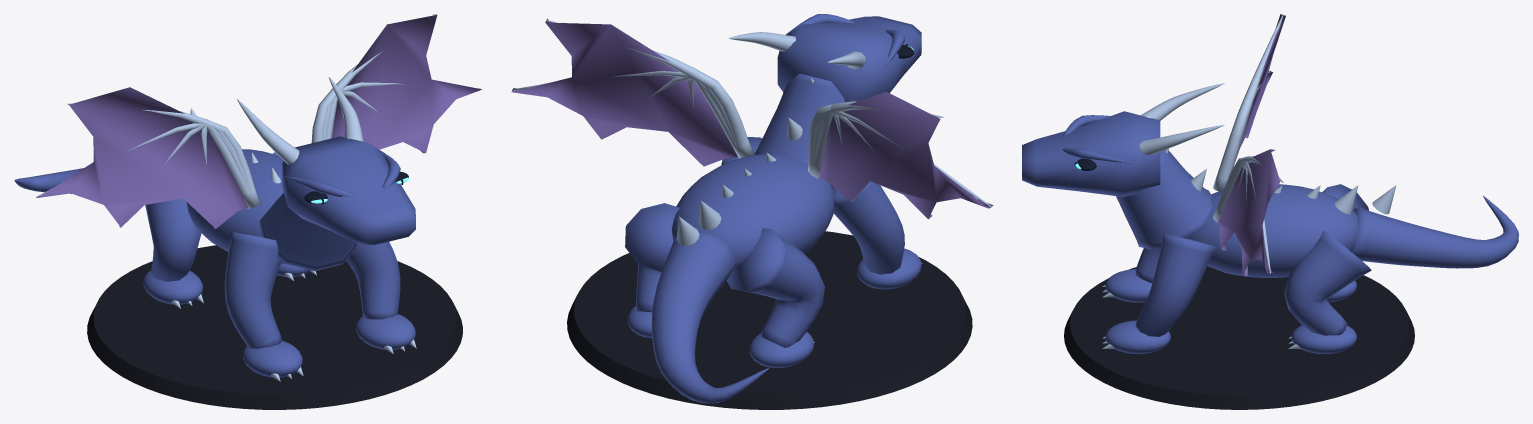
Rendered from DragaoTransplanar3D.glb.
3 views of the same model, side by side, from view 1: azimuth 30°, elevation 25°; view 2: azimuth 150°, elevation 25°; view 3: azimuth 270°, elevation 25° (orthographic). The views are drawn at different scales.
Visible parts, largest first — view 1: BaseMiniatura, MembranaEspessa, MembranaEspessa2, CabecaEsculpida, MembroDianteiraEsquerda, Pescoco, MembroTraseiraEsquerda, TroncoHorizontal, MembroDianteiraDireita, PataDianteiraDireita, PataDianteiraEsquerda, PataTraseiraEsquerda (+9 smaller); view 2: BaseMiniatura, MembranaEspessa2, TroncoHorizontal, MembranaEspessa, CaudaVolumetrica, CabecaEsculpida, MembroTraseiraEsquerda, MembroDianteiraEsquerda, Pescoco, MembroTraseiraDireita, Nervura22, PataTraseiraEsquerda (+10 smaller); view 3: BaseMiniatura, CabecaEsculpida, TroncoHorizontal, CaudaVolumetrica, Pescoco, MembroTraseiraDireita, MembroDianteiraDireita, MembranaEspessa2, PataDianteiraDireita, PataTraseiraDireita, Nervura2, PataDianteiraEsquerda (+6 smaller).
Boxes of the visible parts, bbox=[...] form: BaseMiniatura: bbox=[87, 245, 462, 409]; MembranaEspessa: bbox=[37, 87, 248, 228]; MembranaEspessa2: bbox=[332, 14, 482, 153]; CabecaEsculpida: bbox=[282, 136, 415, 245]; MembroDianteiraEsquerda: bbox=[224, 231, 282, 348]; Pescoco: bbox=[259, 193, 356, 271]; MembroTraseiraEsquerda: bbox=[145, 198, 201, 281]; TroncoHorizontal: bbox=[186, 149, 284, 264]; MembroDianteiraDireita: bbox=[346, 241, 400, 319]; PataDianteiraDireita: bbox=[356, 314, 415, 349]; PataDianteiraEsquerda: bbox=[243, 340, 302, 377]; PataTraseiraEsquerda: bbox=[143, 270, 202, 304]; BaseMiniatura: bbox=[567, 231, 972, 409]; MembranaEspessa2: bbox=[511, 18, 738, 166]; TroncoHorizontal: bbox=[671, 153, 834, 267]; MembranaEspessa: bbox=[819, 91, 993, 219]; CaudaVolumetrica: bbox=[651, 232, 768, 403]; CabecaEsculpida: bbox=[777, 16, 921, 102]; MembroTraseiraEsquerda: bbox=[726, 228, 824, 347]; MembroDianteiraEsquerda: bbox=[831, 181, 904, 274]; Pescoco: bbox=[754, 73, 844, 164]; MembroTraseiraDireita: bbox=[625, 203, 679, 312]; Nervura22: bbox=[512, 70, 753, 157]; PataTraseiraEsquerda: bbox=[749, 332, 813, 368]; BaseMiniatura: bbox=[1064, 266, 1414, 409]; CabecaEsculpida: bbox=[1022, 111, 1160, 196]; TroncoHorizontal: bbox=[1188, 184, 1357, 277]; CaudaVolumetrica: bbox=[1351, 196, 1518, 268]; Pescoco: bbox=[1116, 149, 1211, 250]; MembroTraseiraDireita: bbox=[1284, 230, 1371, 335]; MembroDianteiraDireita: bbox=[1135, 233, 1216, 336]; MembranaEspessa2: bbox=[1218, 149, 1280, 276]; PataDianteiraDireita: bbox=[1105, 320, 1170, 354]; PataTraseiraDireita: bbox=[1291, 325, 1356, 354]; Nervura2: bbox=[1213, 70, 1270, 191]; PataDianteiraEsquerda: bbox=[1105, 269, 1152, 302].
Size of the model in its own units: 3.55 by 2 by 3.67.
